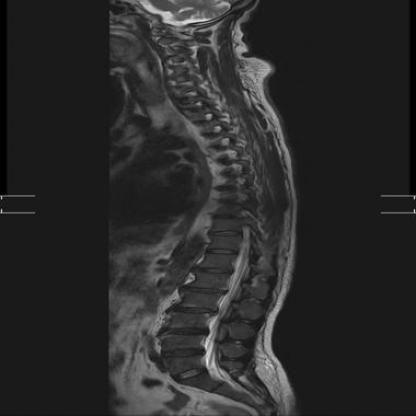Annular Tearrotation: (161, 347, 204, 362)
Disc Bulgerotation: (160, 326, 211, 341), (161, 346, 204, 361), (171, 304, 220, 317)
Disc Protrusionrotation: (183, 282, 226, 298), (163, 58, 182, 72)
